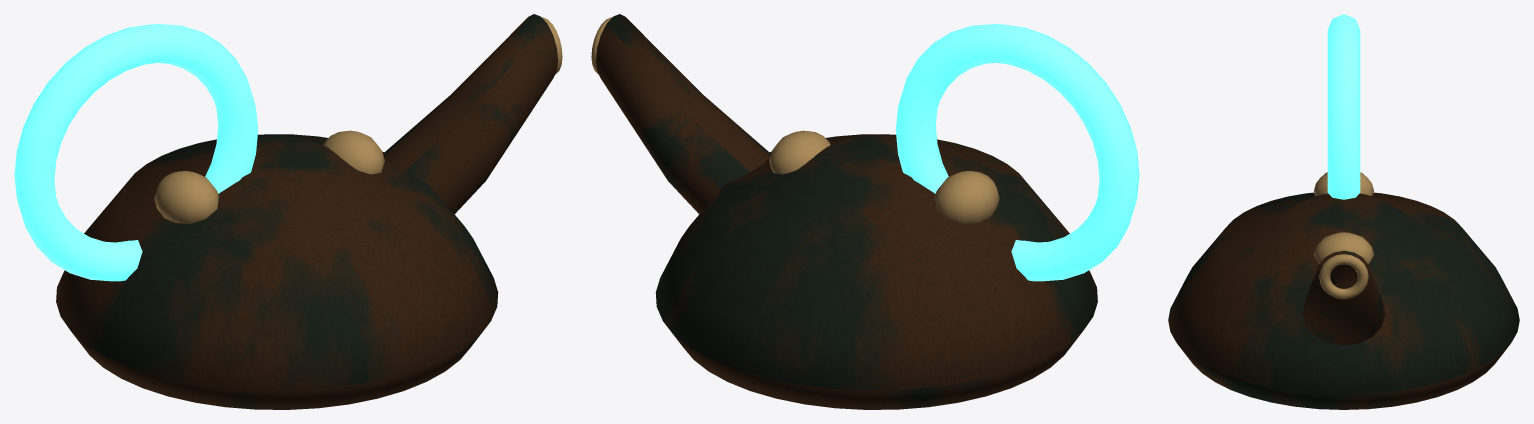
File: ceremonial_lamp.fbx
The picture shows the model from 3 angles, left to right: view 1: azimuth 30°, elevation 25°; view 2: azimuth 150°, elevation 25°; view 3: azimuth 270°, elevation 25°; orthographic projection. The views are drawn at different scales.
Parts seen in each view (by area): view 1: Reviewed_ceremonial_lamp_Body.050, TH10_Lamp_Handle.050; view 2: Reviewed_ceremonial_lamp_Body.050, TH10_Lamp_Handle.050; view 3: Reviewed_ceremonial_lamp_Body.050, TH10_Lamp_Handle.050.
Part boxes in pixels (x1,y1,x2,y2): Reviewed_ceremonial_lamp_Body.050: (56, 14, 562, 409); TH10_Lamp_Handle.050: (14, 24, 258, 281); Reviewed_ceremonial_lamp_Body.050: (591, 14, 1097, 409); TH10_Lamp_Handle.050: (895, 24, 1139, 281); Reviewed_ceremonial_lamp_Body.050: (1168, 172, 1519, 409); TH10_Lamp_Handle.050: (1327, 14, 1360, 199).
Bounding box in the file's own units: 0.178 × 0.106 × 0.128.
Materials: 3 (1 with a texture image).
